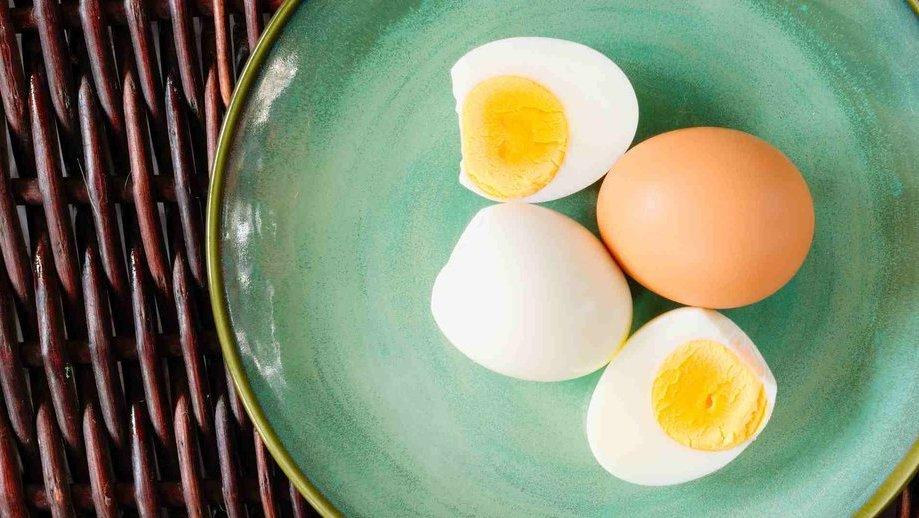telur: (459, 54, 595, 187), (626, 160, 778, 266), (468, 242, 600, 362), (616, 347, 741, 461)
